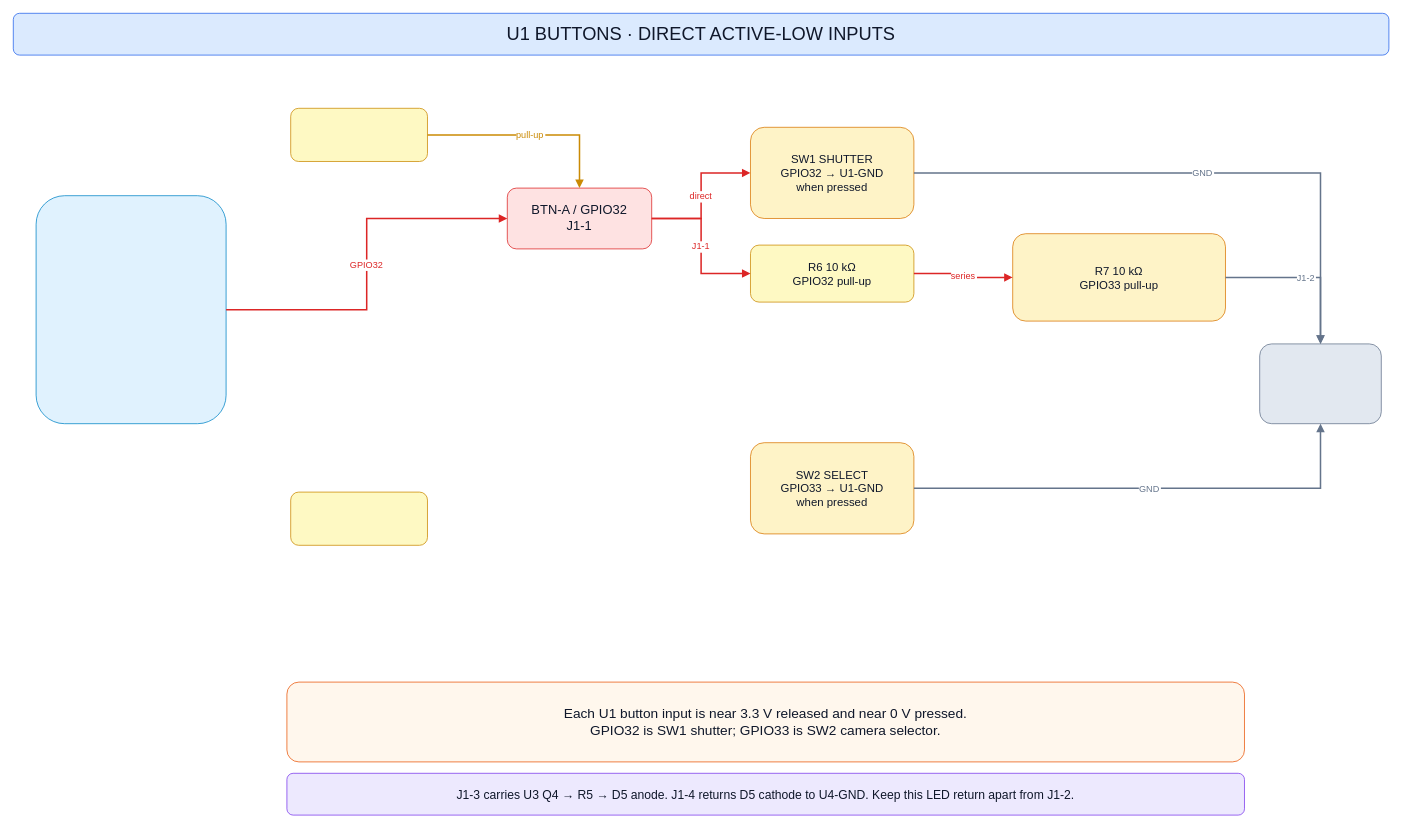
The diagram is 1402 pixels wide and 828 high, and some of its shapes have lost their labels. Each missing label, with the box of its shape:
R6 10 kΩ 3V3 → BTN-A: (290, 108, 428, 162)
R7 10 kΩ 3V3 → BTN-B: (290, 491, 428, 545)
U1 WROVER-E 3V3 / GPIO32 / GPIO33 / GND: (35, 195, 226, 424)
U1-GND / J1-2 button returns only: (1259, 343, 1381, 424)
